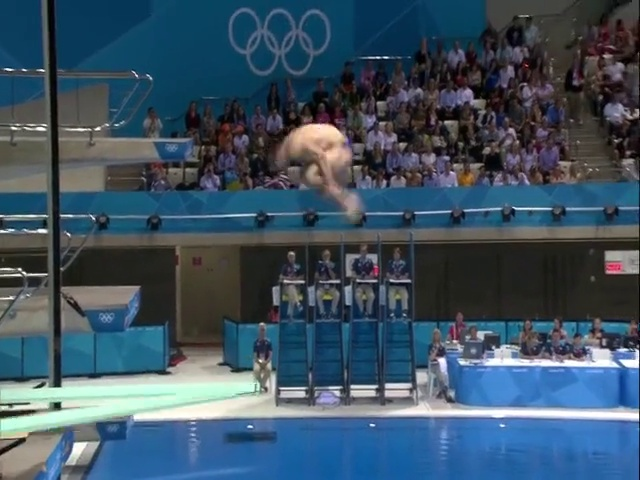diver: (266, 123, 361, 223)
